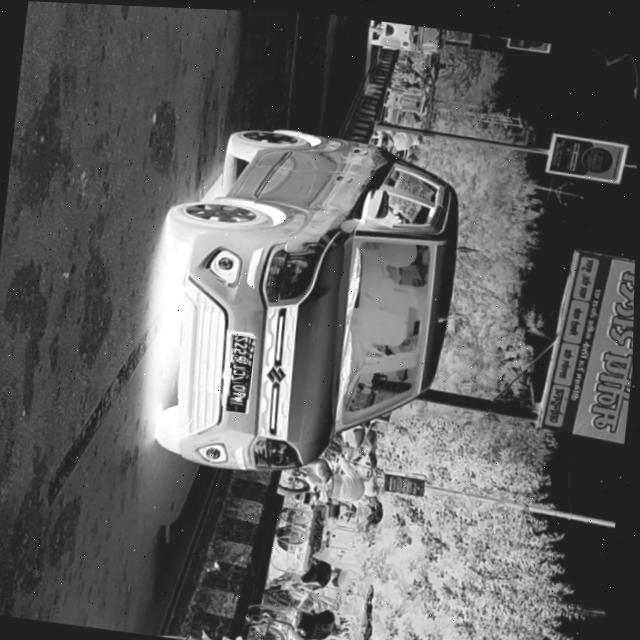0: (230, 379, 247, 388)
2: (232, 338, 249, 347), (233, 332, 249, 340)
5: (233, 345, 248, 353)
7: (231, 371, 246, 381)
8: (233, 353, 247, 359)
C: (232, 366, 247, 373)
IND: (232, 400, 247, 408)
Indian_registered: (225, 333, 256, 410)
J: (230, 358, 248, 367)
M: (227, 392, 247, 401)
P: (228, 386, 246, 395)
